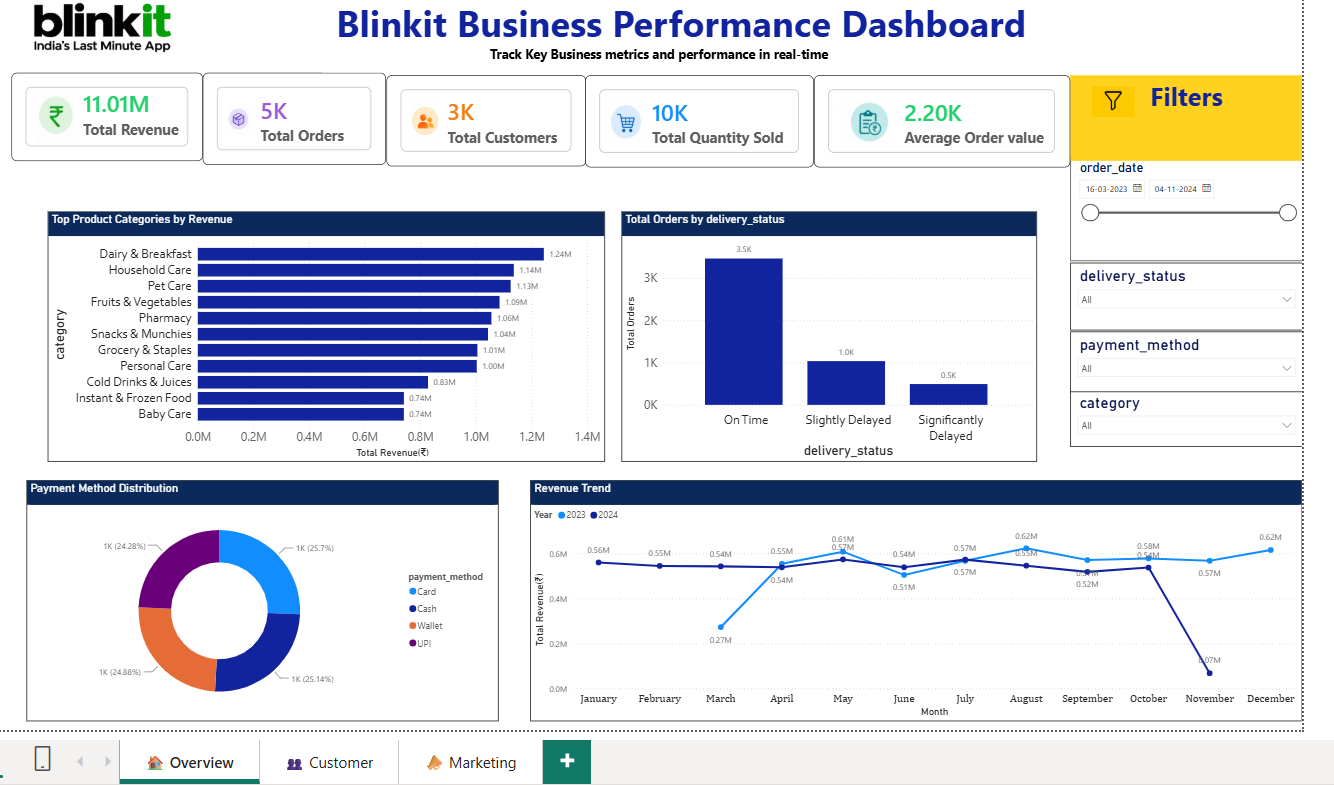

What the dashboard file says about the page in this screenshot:
{"tool":"powerbi","page":{"name":"🏠 Overview","canvas":[1920,1080],"ordinal":0},"visuals":[{"type":"cardVisual","fields":{"Data":["measures (2).Total Orders"]},"box":[306.9,115.1,268.6,135.3],"z":0},{"type":"cardVisual","fields":{"Data":["measures (2).Total Customers"]},"box":[575.5,119.1,292.8,133.3],"z":1000},{"type":"cardVisual","fields":{"Data":["measures (2).Total Quantity Sold"]},"box":[868.3,119.1,335.2,135.3],"z":2000},{"type":"clusteredBarChart","title":"Top Product Categories by Revenue","fields":{"Category":["blinkit_products.category"],"Y":["measures (2).Total Revenue"]},"box":[78.8,319.1,817.8,367.5],"z":3000},{"type":"lineChart","title":"Revenue Trend","fields":{"Y":["measures (2).Total Revenue"],"Category":["blinkit_orders.Month Name"],"Series":["blinkit_orders.Year"]},"box":[787.5,712.8,1132.9,353.4],"z":4000},{"type":"donutChart","title":"Payment Method Distribution","fields":{"Y":["measures (2).Total Orders"],"Category":["blinkit_orders.payment_method"]},"box":[48.5,712.8,692.6,353.4],"z":5000},{"type":"clusteredColumnChart","fields":{"Category":["blinkit_orders.delivery_status"],"Y":["measures (2).Total Orders"]},"box":[920.8,319.1,609.8,367.5],"z":6000},{"type":"slicer","fields":{"Values":["blinkit_orders.order_date"]},"box":[1579.1,238.3,341.3,153.5],"z":7000},{"type":"slicer","fields":{"Values":["blinkit_products.category"]},"box":[1579.1,579.6,341.3,84.8],"z":8000},{"type":"slicer","fields":{"Values":["blinkit_orders.payment_method"]},"box":[1579.1,494.7,341.3,88.9],"z":9000},{"type":"slicer","fields":{"Values":["blinkit_orders.delivery_status"]},"box":[1579.1,393.8,341.3,98.9],"z":10000},{"type":"image","box":[0,0,319.2,93.5],"z":11000},{"type":"cardVisual","fields":{"Data":["measures (2).Total Revenue"]},"box":[26.3,115.1,280.7,129.2],"z":12000},{"type":"textbox","box":[1740.7,0,94.9,80.8],"z":13000},{"type":"textbox","box":[482.6,0,1173.2,115.1],"z":18000},{"type":"textbox","box":[1579.1,119.1,341.3,125.2],"z":20000},{"type":"image","box":[1593.3,135.3,96.9,44.4],"z":21000},{"type":"cardVisual","fields":{"Data":["measures (2).Average Order value"]},"box":[1203.5,119.1,375.6,135.3],"z":22001}]}

Visuals, with their boxes on the page's 1920x1080 design canvas (x1, y1, x2, y2). These are canvas units, not pixel positions in the 1334x785 screenshot, which may show the page scaled, cropped or inside an application window:
cardVisual - measures (2).Total Orders: {"left": 307, "top": 115, "right": 576, "bottom": 250}
cardVisual - measures (2).Total Customers: {"left": 576, "top": 119, "right": 868, "bottom": 252}
cardVisual - measures (2).Total Quantity Sold: {"left": 868, "top": 119, "right": 1204, "bottom": 254}
"Top Product Categories by Revenue" clusteredBarChart: {"left": 79, "top": 319, "right": 897, "bottom": 687}
"Revenue Trend" lineChart: {"left": 788, "top": 713, "right": 1920, "bottom": 1066}
"Payment Method Distribution" donutChart: {"left": 48, "top": 713, "right": 741, "bottom": 1066}
clusteredColumnChart - blinkit_orders.delivery_status x measures (2).Total Orders: {"left": 921, "top": 319, "right": 1531, "bottom": 687}
slicer - blinkit_orders.order_date: {"left": 1579, "top": 238, "right": 1920, "bottom": 392}
slicer - blinkit_products.category: {"left": 1579, "top": 580, "right": 1920, "bottom": 664}
slicer - blinkit_orders.payment_method: {"left": 1579, "top": 495, "right": 1920, "bottom": 584}
slicer - blinkit_orders.delivery_status: {"left": 1579, "top": 394, "right": 1920, "bottom": 493}
image: {"left": 0, "top": 0, "right": 319, "bottom": 94}
cardVisual - measures (2).Total Revenue: {"left": 26, "top": 115, "right": 307, "bottom": 244}
textbox: {"left": 1741, "top": 0, "right": 1836, "bottom": 81}
textbox: {"left": 483, "top": 0, "right": 1656, "bottom": 115}
textbox: {"left": 1579, "top": 119, "right": 1920, "bottom": 244}
image: {"left": 1593, "top": 135, "right": 1690, "bottom": 180}
cardVisual - measures (2).Average Order value: {"left": 1204, "top": 119, "right": 1579, "bottom": 254}
